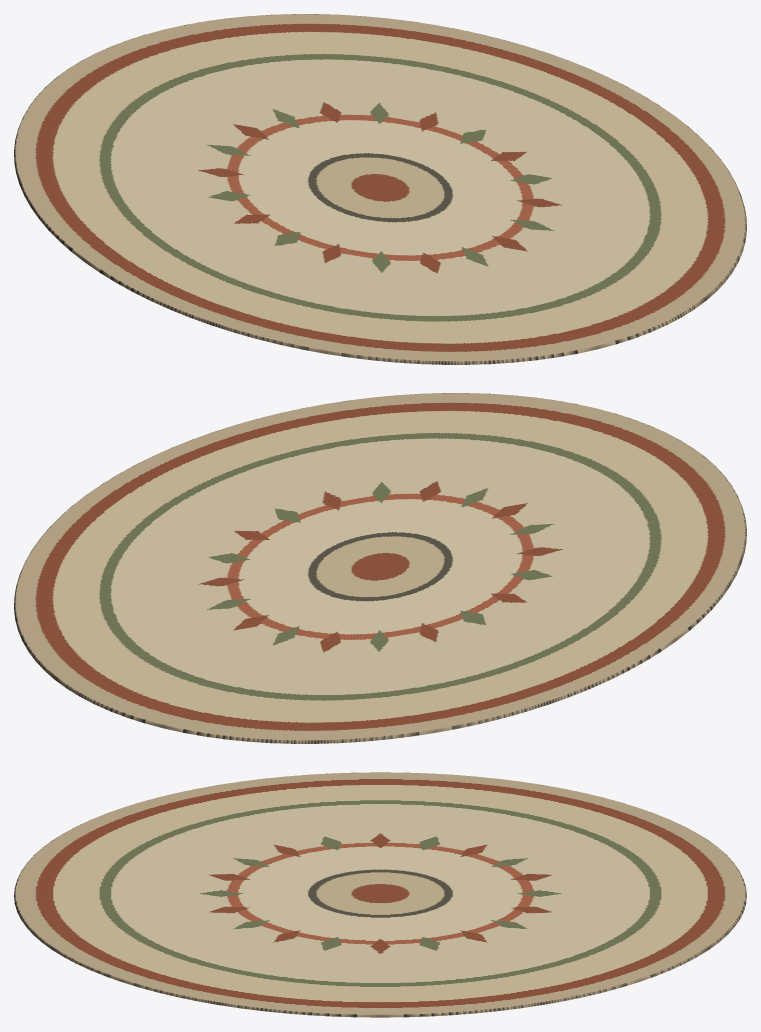
3 views of the same model, one above another, from view 1: azimuth 30°, elevation 25°; view 2: azimuth 150°, elevation 25°; view 3: azimuth 270°, elevation 25° (orthographic). The views are drawn at different scales.
Parts seen in each view (by area): view 1: Mesh_WovenRug; view 2: Mesh_WovenRug; view 3: Mesh_WovenRug.
Boxes of the visible parts, x1=… form: Mesh_WovenRug: x1=14, y1=14, x2=746, y2=364; Mesh_WovenRug: x1=14, y1=393, x2=746, y2=743; Mesh_WovenRug: x1=14, y1=772, x2=746, y2=1017.
Size of the model in its own units: 3.31 by 0.0145 by 4.22.
Materials: 1 (1 with a texture image).
